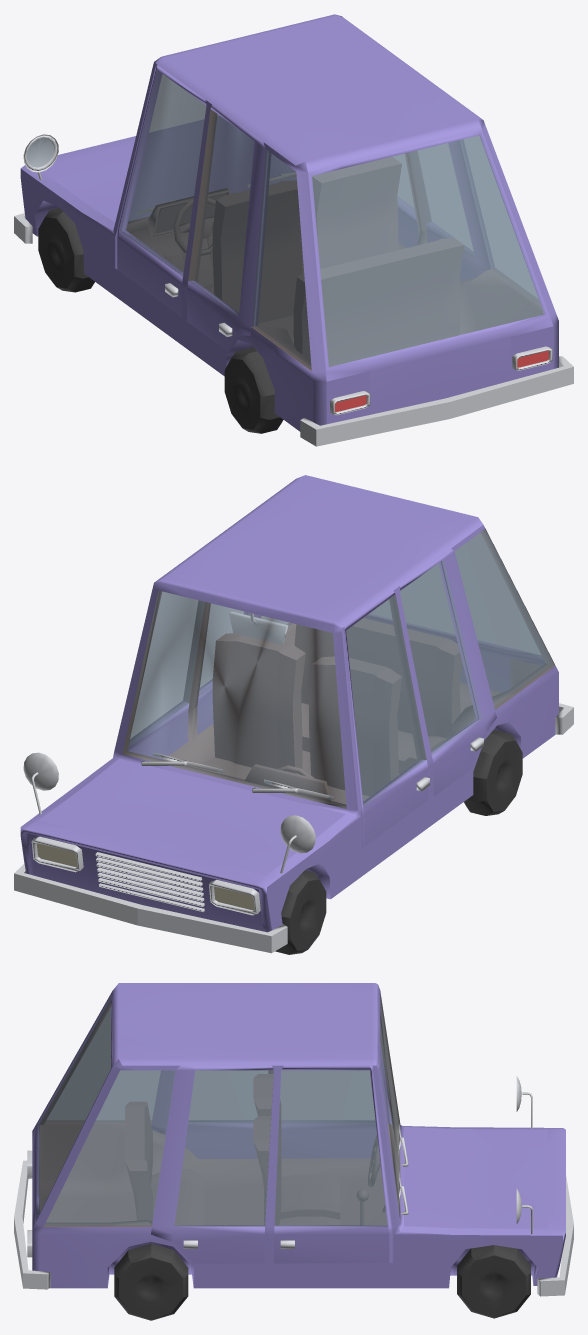
File: KFB_CVP1_estate.glb
3 views of the same model, one above another, from view 1: azimuth 30°, elevation 25°; view 2: azimuth 150°, elevation 25°; view 3: azimuth 270°, elevation 25° (orthographic). The views are drawn at different scales.
Visible parts, largest first — view 1: CarMesh, WIndow, SeatRear, WindowBack, Trunk, Window.3, Hood, Interior, Window.2, SeatL, SeatR, DoorRL (+11 smaller); view 2: CarMesh, WindowFront, Hood, SeatR, Window.3, SeatL, SeatRear, Interior, Window.2, WindowBack, WIndow, Window.4 (+18 smaller); view 3: CarMesh, Interior, WindowBack, Window.4, Hood, Window, DoorRR, WIndow, DoorFR, Window.3, WheelRR, WheelRR.2 (+10 smaller).
Part boxes in pixels (left/top/right/bottom): CarMesh: left=20, top=14, right=558, bottom=431; WIndow: left=312, top=135, right=544, bottom=366; SeatRear: left=288, top=238, right=463, bottom=366; WindowBack: left=252, top=136, right=537, bottom=369; Trunk: left=308, top=130, right=553, bottom=407; Window.3: left=120, top=70, right=206, bottom=276; Hood: left=42, top=123, right=296, bottom=222; Interior: left=126, top=109, right=543, bottom=370; Window.2: left=188, top=109, right=254, bottom=317; SeatL: left=203, top=180, right=301, bottom=323; SeatR: left=302, top=157, right=401, bottom=273; DoorRL: left=187, top=105, right=270, bottom=350; CarMesh: left=20, top=475, right=558, bottom=932; WindowFront: left=122, top=591, right=346, bottom=808; Hood: left=39, top=758, right=345, bottom=875; SeatR: left=196, top=633, right=305, bottom=779; Window.3: left=346, top=595, right=426, bottom=805; SeatL: left=309, top=656, right=401, bottom=804; SeatRear: left=294, top=618, right=462, bottom=773; Interior: left=122, top=529, right=555, bottom=808; Window.2: left=400, top=559, right=482, bottom=755; WindowBack: left=261, top=529, right=554, bottom=708; WIndow: left=370, top=533, right=541, bottom=656; Window.4: left=128, top=592, right=204, bottom=747; CarMesh: left=32, top=983, right=565, bottom=1288; Interior: left=40, top=992, right=400, bottom=1226; WindowBack: left=44, top=1008, right=175, bottom=1226; Window.4: left=274, top=1070, right=387, bottom=1226; Hood: left=404, top=1127, right=547, bottom=1228; Window: left=174, top=1070, right=273, bottom=1226; DoorRR: left=151, top=1065, right=273, bottom=1263; WIndow: left=37, top=996, right=110, bottom=1217; DoorFR: left=274, top=1065, right=393, bottom=1263; Window.3: left=280, top=1070, right=375, bottom=1123; WheelRR: left=114, top=1243, right=188, bottom=1320; WheelRR.2: left=457, top=1245, right=530, bottom=1318.
Bounding box in the file's own units: 2.18 × 1.96 × 4.04.
